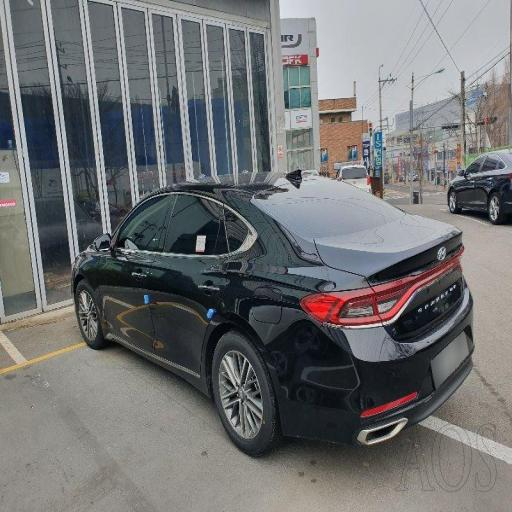broken: (240, 143, 332, 210)
dent: (115, 284, 227, 398)
